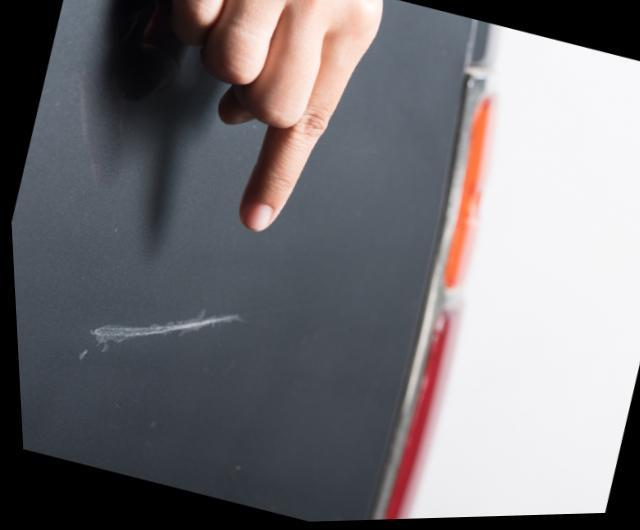scratch: (76, 310, 243, 349)
